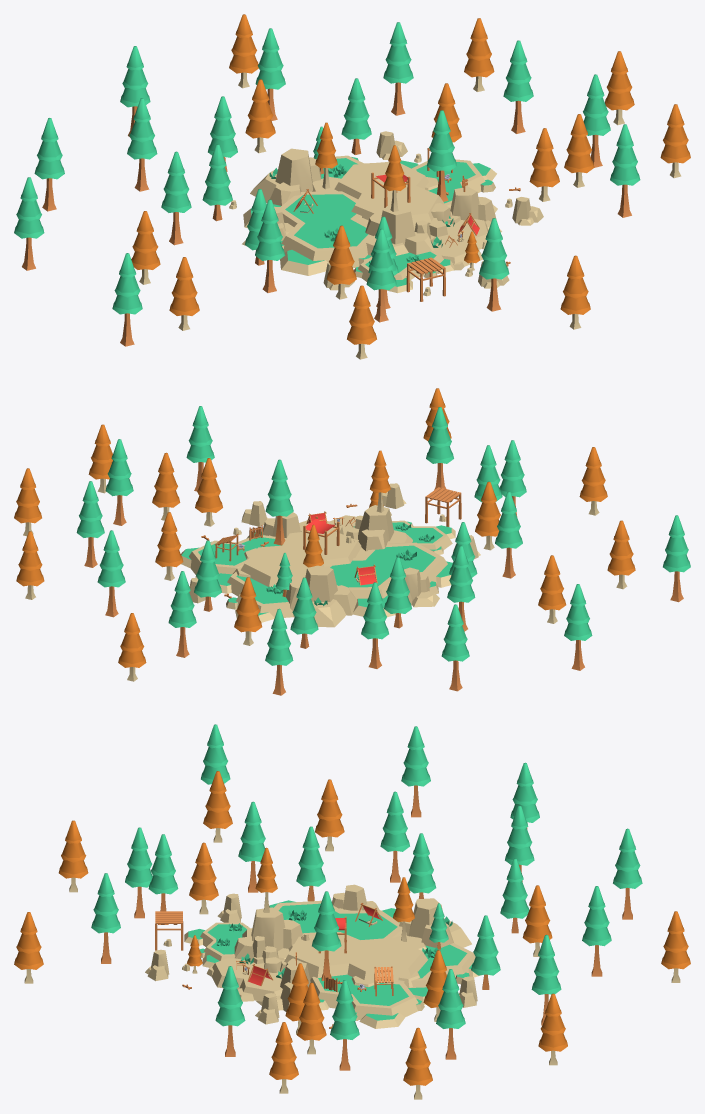
3 renders of one model, top to bottom at view 1: azimuth 30°, elevation 25°; view 2: azimuth 150°, elevation 25°; view 3: azimuth 270°, elevation 25°, orthographic. The views are drawn at different scales.
Visible parts, largest first — view 1: rockFlat, Mesh_rockFlatGrass002_1, Mesh_rockFlatGrass002, rockB002, rockB, rockFlat001, rockB005, Mesh_tree002_1, Mesh_treeLarge010_1, Mesh_treeLarge001_1, Mesh_treeLarge002_1, Mesh_treeLarge013_1 (+36 smaller); view 2: rockFlat, rockB002, Mesh_rockFlatGrass002_1, rockB, Mesh_rockFlatGrass002, Mesh_rockFlatGrass004, Mesh_tree003_1, Mesh_treeLarge003_1, Mesh_treeLarge010_1, Mesh_treeLarge008_1, Mesh_tree001_1, Mesh_treeLarge011_1 (+37 smaller); view 3: rockFlat, rockB, Mesh_rockFlatGrass003, Mesh_rockFlatGrass002_1, rockFlat001, rockB002, Mesh_rockFlatGrass003_1, Mesh_treeLarge003_1, Mesh_treeLarge005_1, Mesh_treeLarge007_1, Mesh_tree_1, Mesh_tree002_1 (+38 smaller).
Part boxes in pixels (x1,y1,x2,y2): rockFlat: [312, 162, 444, 226]; Mesh_rockFlatGrass002_1: [250, 194, 371, 264]; Mesh_rockFlatGrass002: [243, 191, 373, 275]; rockB002: [250, 148, 321, 205]; rockB: [365, 203, 434, 255]; rockFlat001: [430, 219, 488, 270]; rockB005: [447, 187, 501, 232]; Mesh_tree002_1: [341, 78, 371, 139]; Mesh_treeLarge010_1: [383, 22, 413, 83]; Mesh_treeLarge001_1: [161, 151, 191, 212]; Mesh_treeLarge002_1: [127, 98, 157, 159]; Mesh_treeLarge013_1: [34, 118, 64, 179]; rockFlat: [233, 529, 366, 586]; rockB002: [286, 565, 357, 627]; Mesh_rockFlatGrass002_1: [330, 545, 452, 607]; rockB: [357, 505, 412, 551]; Mesh_rockFlatGrass002: [325, 542, 451, 617]; Mesh_rockFlatGrass004: [220, 564, 294, 622]; Mesh_tree003_1: [290, 577, 318, 634]; Mesh_treeLarge003_1: [265, 459, 293, 516]; Mesh_treeLarge010_1: [97, 530, 125, 587]; Mesh_treeLarge008_1: [105, 439, 133, 496]; Mesh_tree001_1: [384, 557, 411, 613]; Mesh_treeLarge011_1: [168, 571, 196, 627]; rockFlat: [280, 932, 427, 987]; rockB: [234, 907, 302, 960]; Mesh_rockFlatGrass003: [310, 976, 424, 1028]; Mesh_rockFlatGrass002_1: [269, 900, 399, 939]; rockFlat001: [206, 958, 282, 1001]; rockB002: [399, 898, 471, 947]; Mesh_rockFlatGrass003_1: [318, 974, 421, 1020]; Mesh_treeLarge003_1: [312, 891, 341, 951]; Mesh_treeLarge005_1: [91, 873, 120, 933]; Mesh_treeLarge007_1: [215, 966, 245, 1026]; Mesh_tree_1: [296, 826, 325, 886]; Mesh_tree002_1: [471, 915, 500, 975].
Size of what is drawn, in the model's own units: 12.43 by 2.35 by 11.93.
